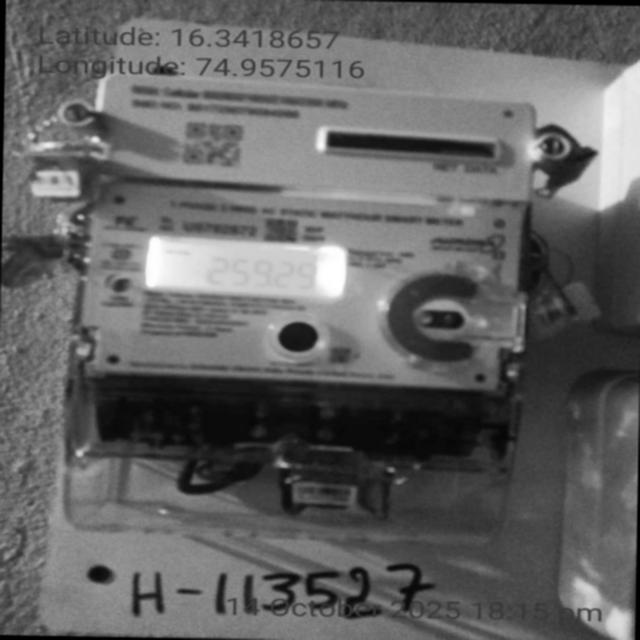meter: (90, 69, 521, 390)
